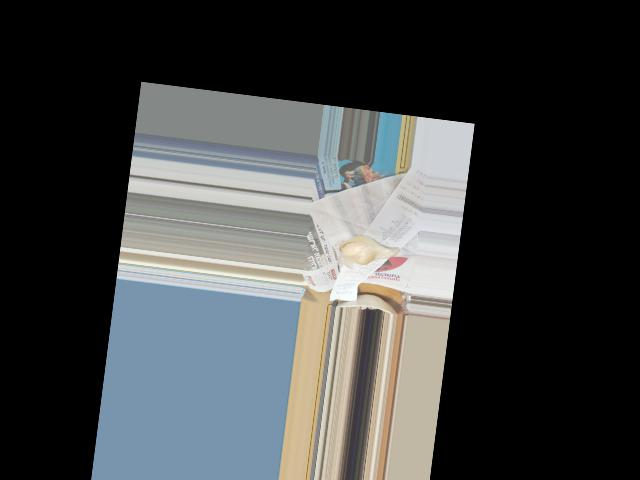onion: (337, 232, 394, 269)
